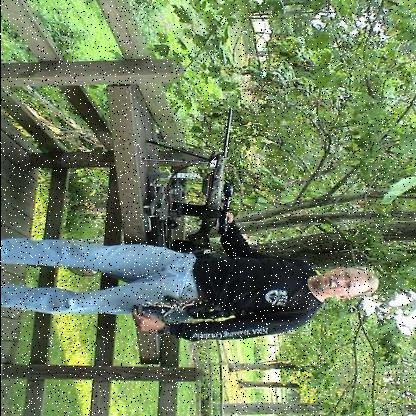rifle: (135, 104, 250, 255)
